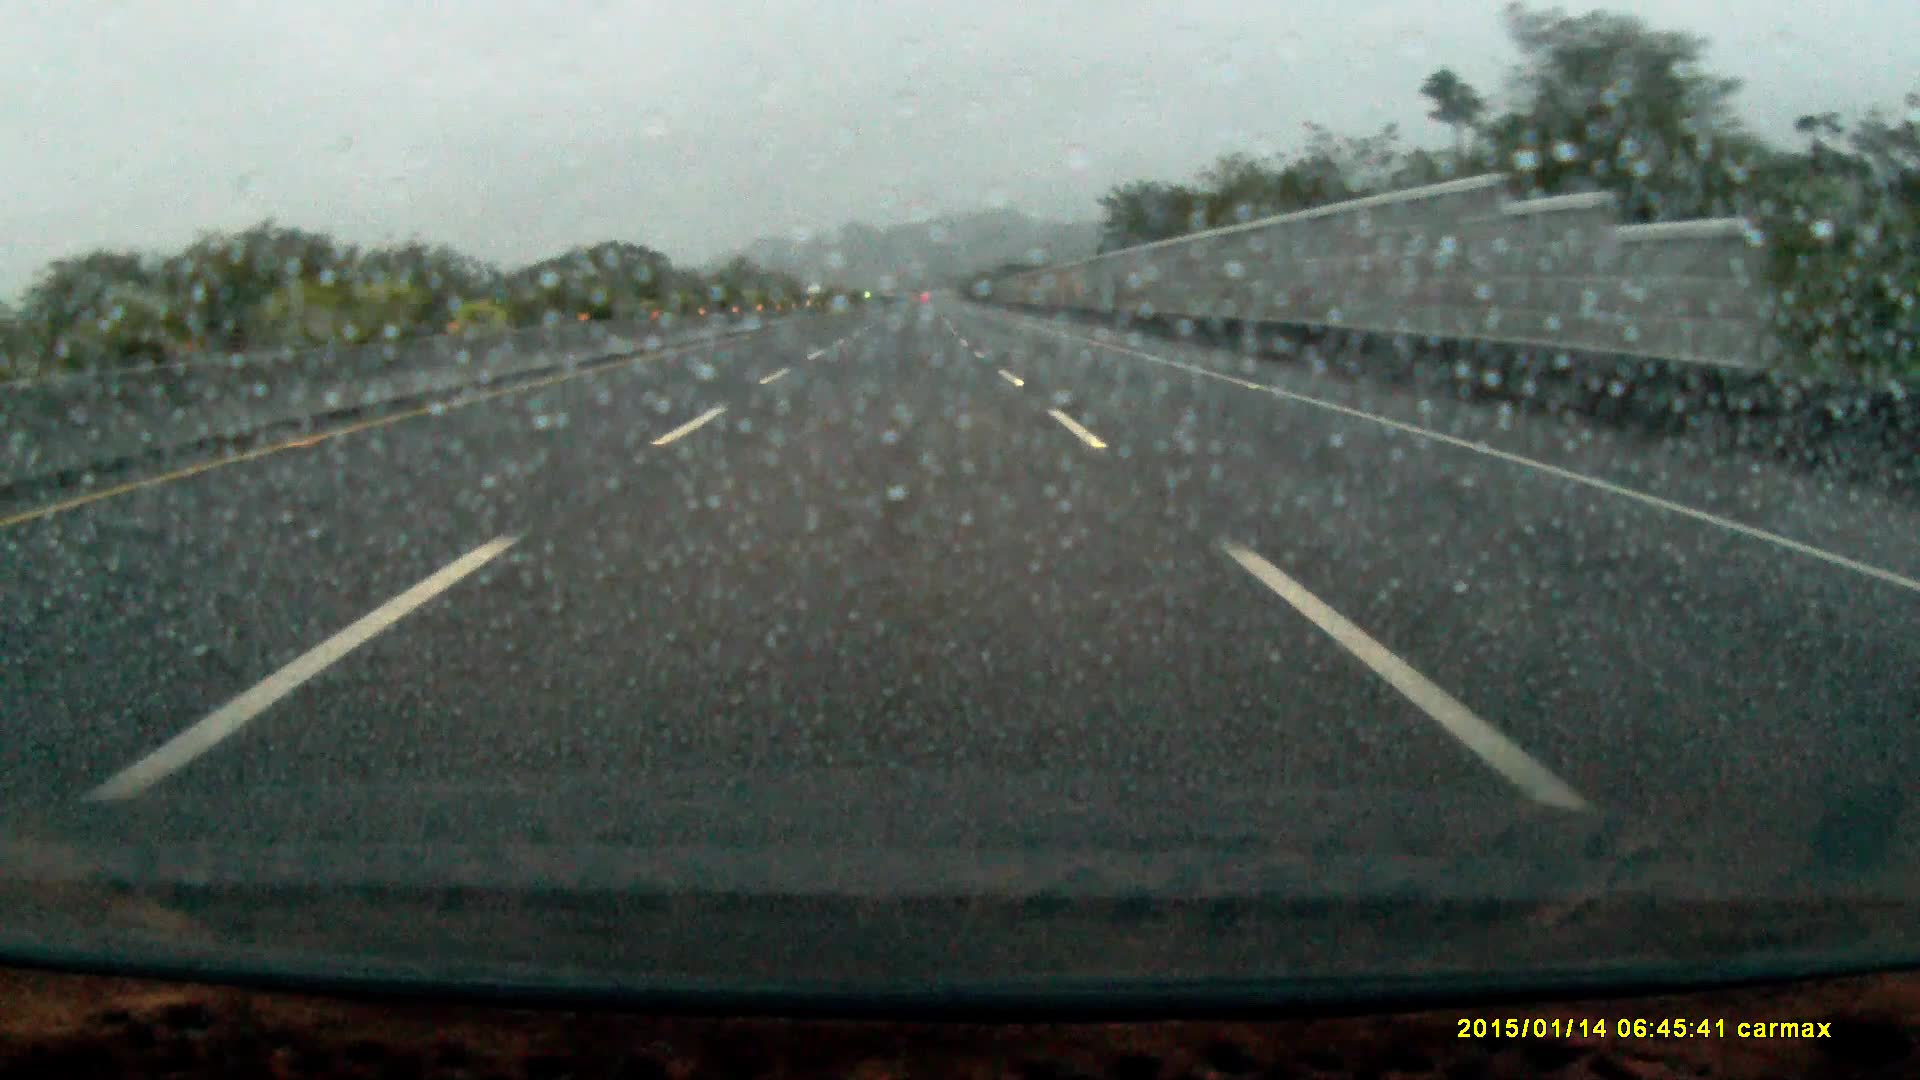vehicle: (804, 287, 827, 309)
